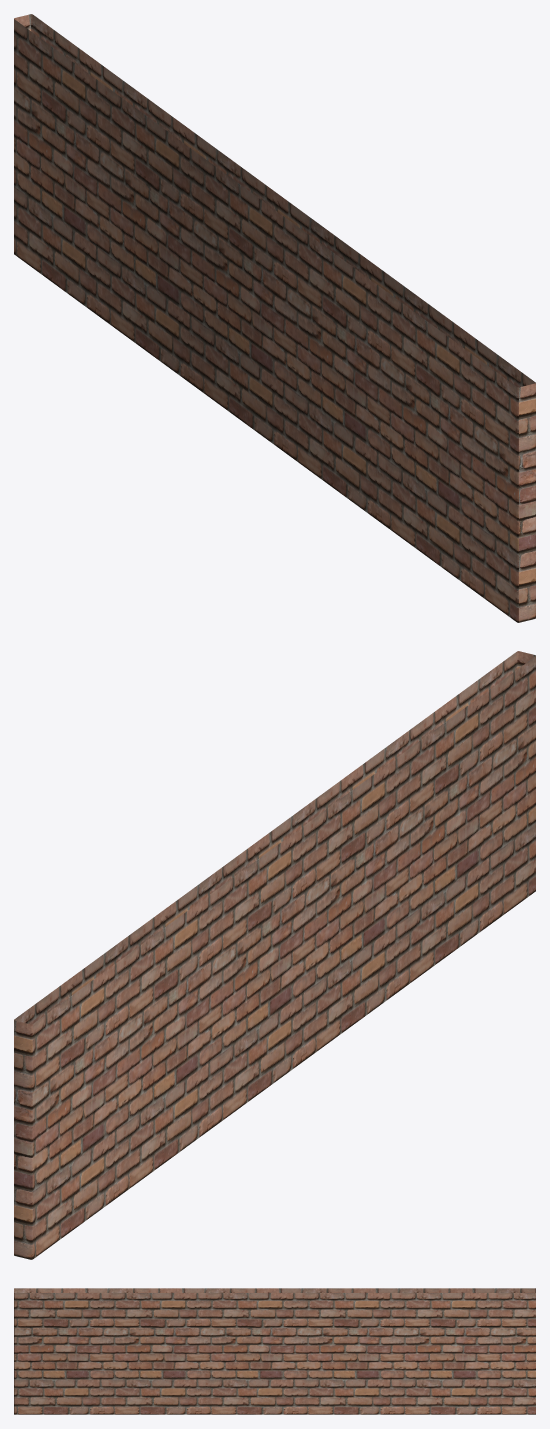
The model's file is wall_inversed.obj.
The picture shows the model from 3 angles, top to bottom: view 1: azimuth 30°, elevation 25°; view 2: azimuth 150°, elevation 25°; view 3: azimuth 270°, elevation 25°; orthographic projection. The views are drawn at different scales.
Bounding box in the file's own units: 17.72 × 213 × 828.
1 material, 1 textured.
